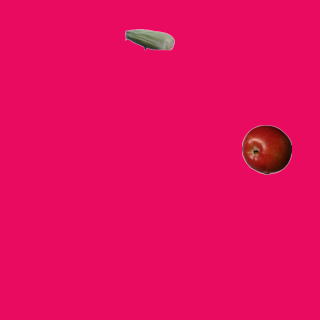Apple Braeburn: (241, 124, 291, 174)
Corn Husk: (124, 14, 174, 64)
